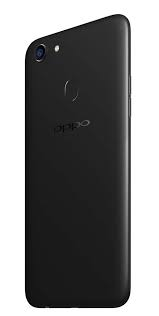oppo: (25, 11, 131, 313)
